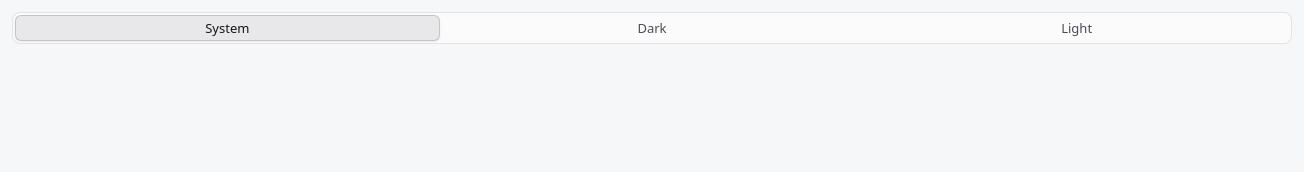
SegmentedControl › selects with click and arrow keys (radio group semantics)
Later steps or results of the test are not shown.
Check: the radio button labelled "System" is checked, box [15, 15, 440, 41]
Click the radio button labelled "Dark" at {"x": 652, "y": 28}, box [440, 15, 864, 41]
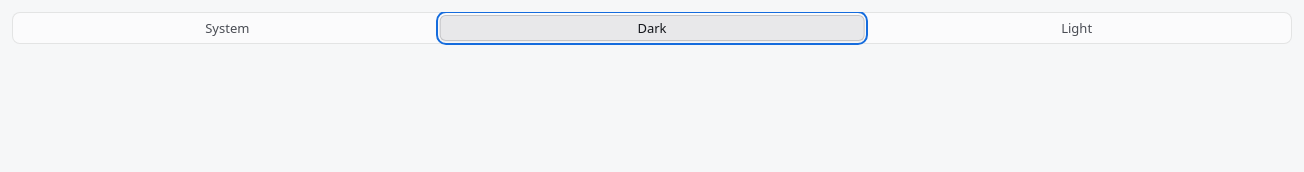
Check: the radio button labelled "Dark" is checked, box [440, 15, 864, 41]
Note: Radix moves focus on a timer, so hold the key (as a real press does) until it lands.
Type keys "{ArrowRight>}"
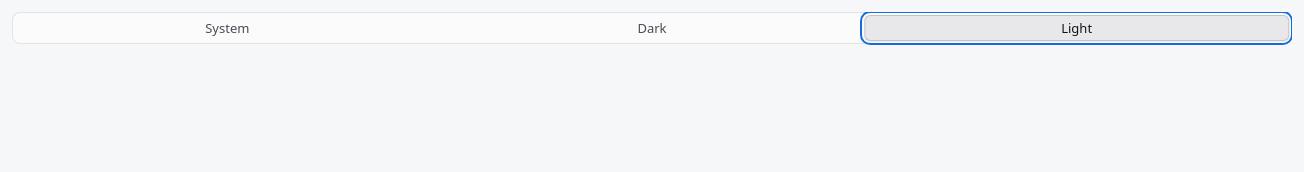
Check: the radio button labelled "Light" is checked, box [864, 15, 1289, 41]
